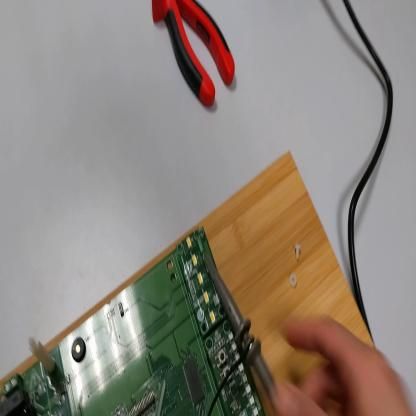hand: (272, 317, 410, 416)
low voltage board: (2, 230, 268, 414)
oscilloscope probe tip: (206, 251, 279, 403)
pliers: (153, 2, 237, 108)
working area: (2, 145, 377, 415)
